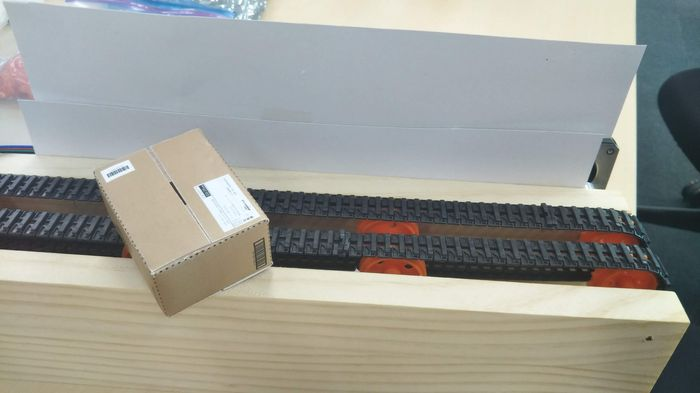box1: (88, 124, 277, 314)
